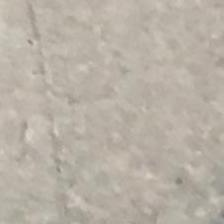Non_Crack: (6, 16, 208, 212)
